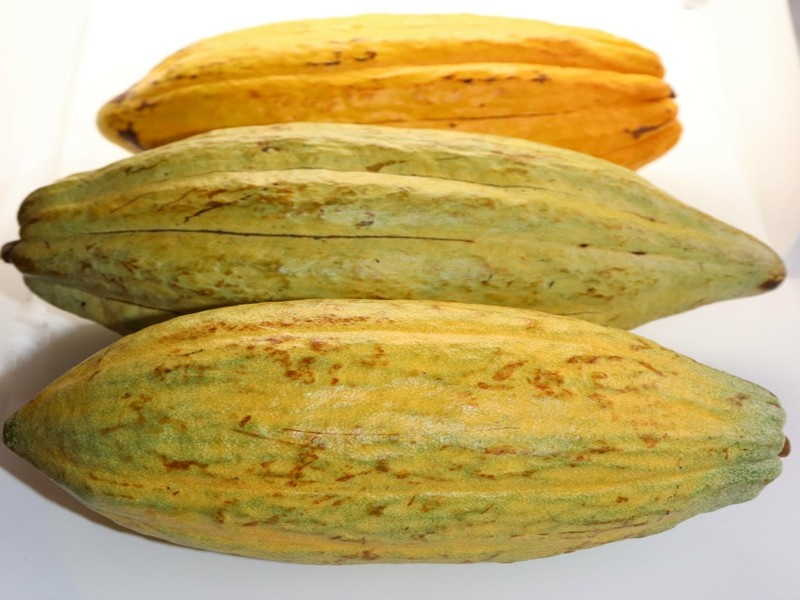Cacaopod: (7, 293, 800, 562), (7, 116, 799, 340), (97, 11, 692, 173)
